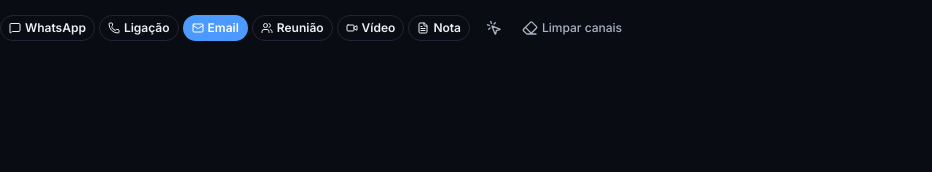
Test case: CanaisQuickFilter › Reverter (descarta pendências) › Esc reverte pendências sem abrir o diálogo de confirmação
This screenshot has width=932, height=172.
Click the button titled "WhatsApp" at (47, 28), box [0,15,95,41]
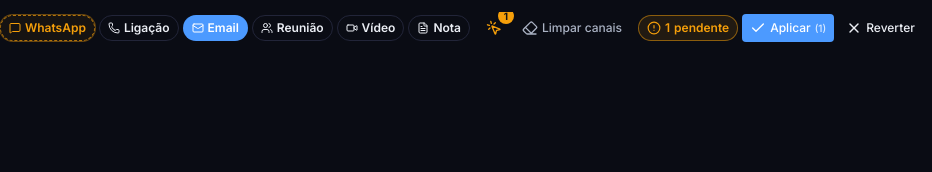
Expected: the button "Aplicar (1)" is shown, [742,14,834,42]
Press Escape
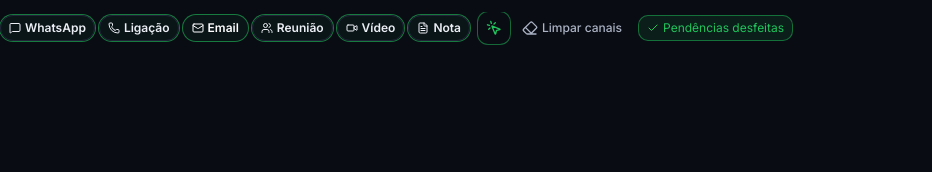
Expected: the button "Aplicar" is gone
